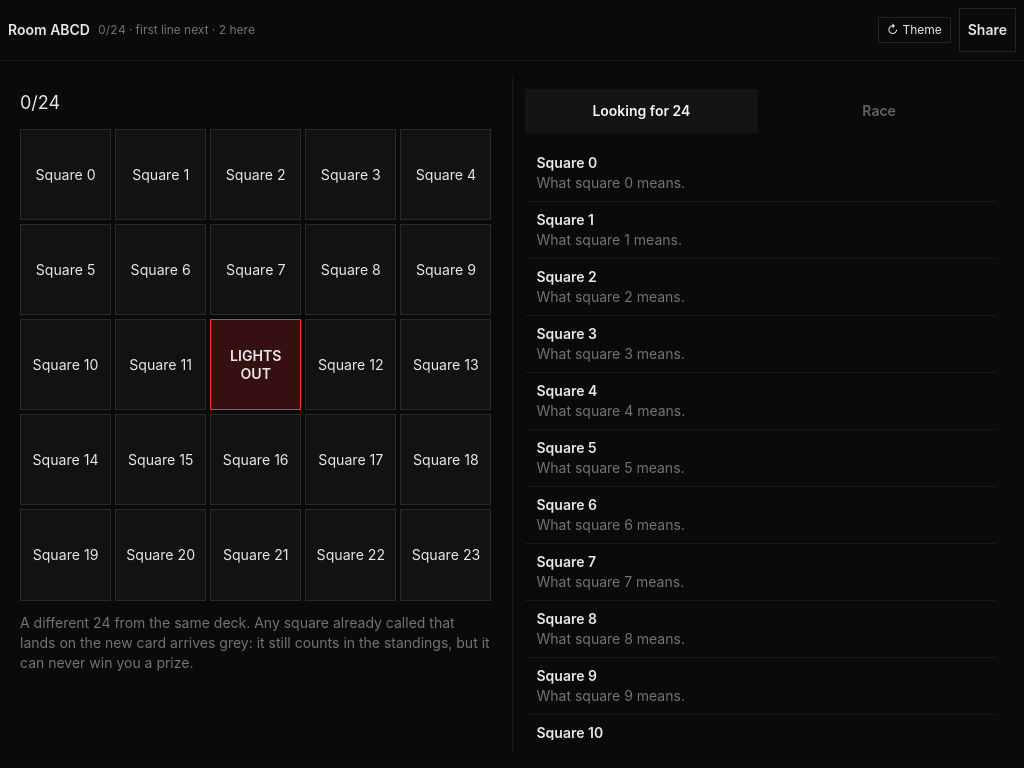
it: tapping the free centre › says so when the tap does not land
Click the button "LIGHTS OUT" at (256, 365), box x1=210 y1=319 x2=301 y2=410
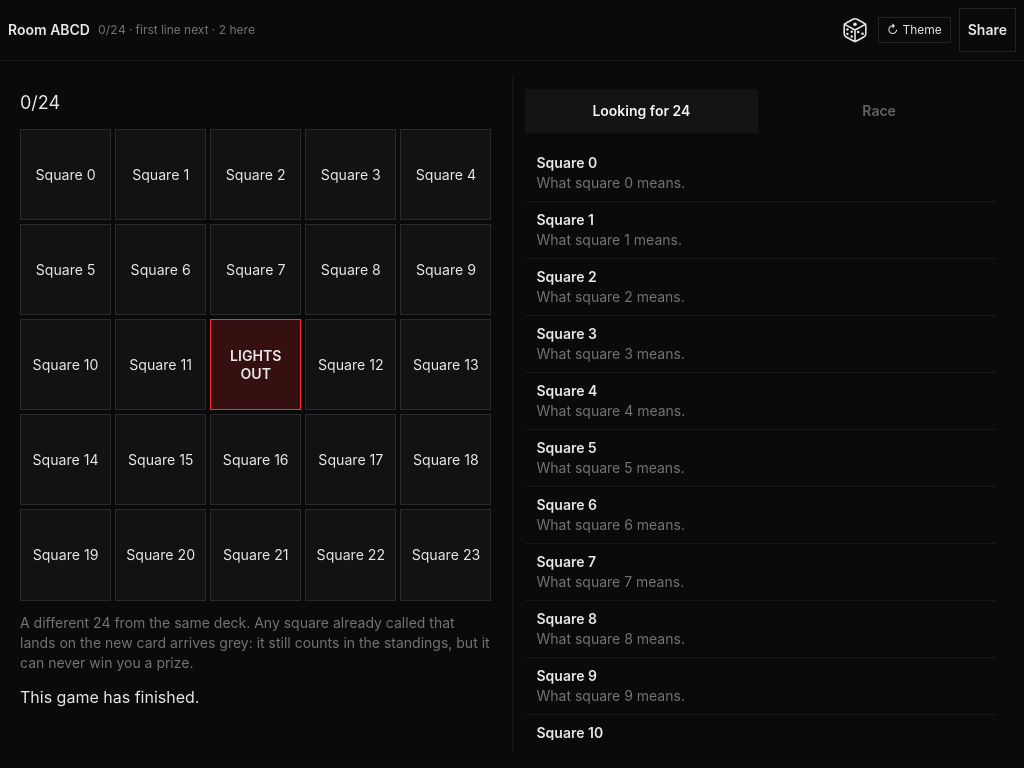
Expected: the text "This game has finished." is shown, x1=20 y1=686 x2=199 y2=706
